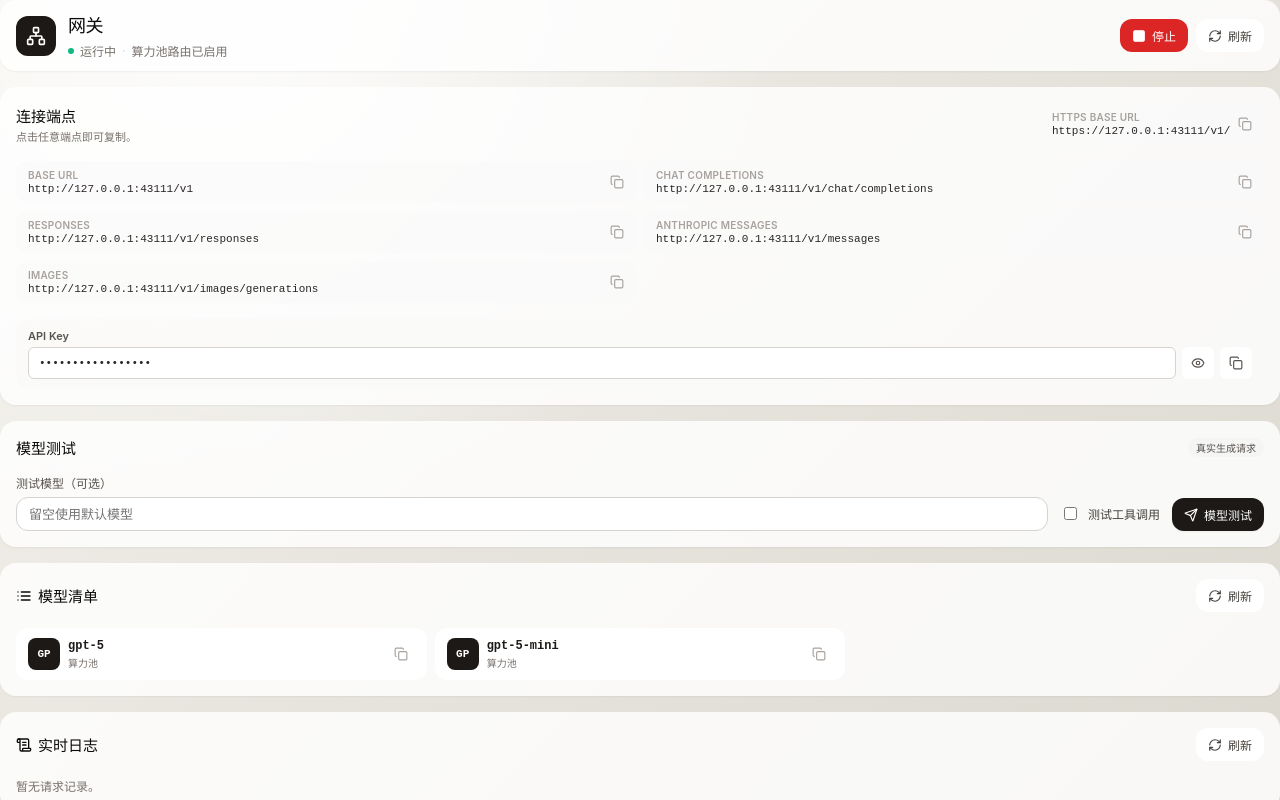
Test: GatewayScreen › starts and stops the gateway through the API
Later steps or results of the test are not shown.
What coordinates should you click on to do the following:
click the button with aria-label "停止 AI 服务"
I would click on:
 (1154, 36)
Its box is top-left (1120, 19), bottom-right (1188, 52).
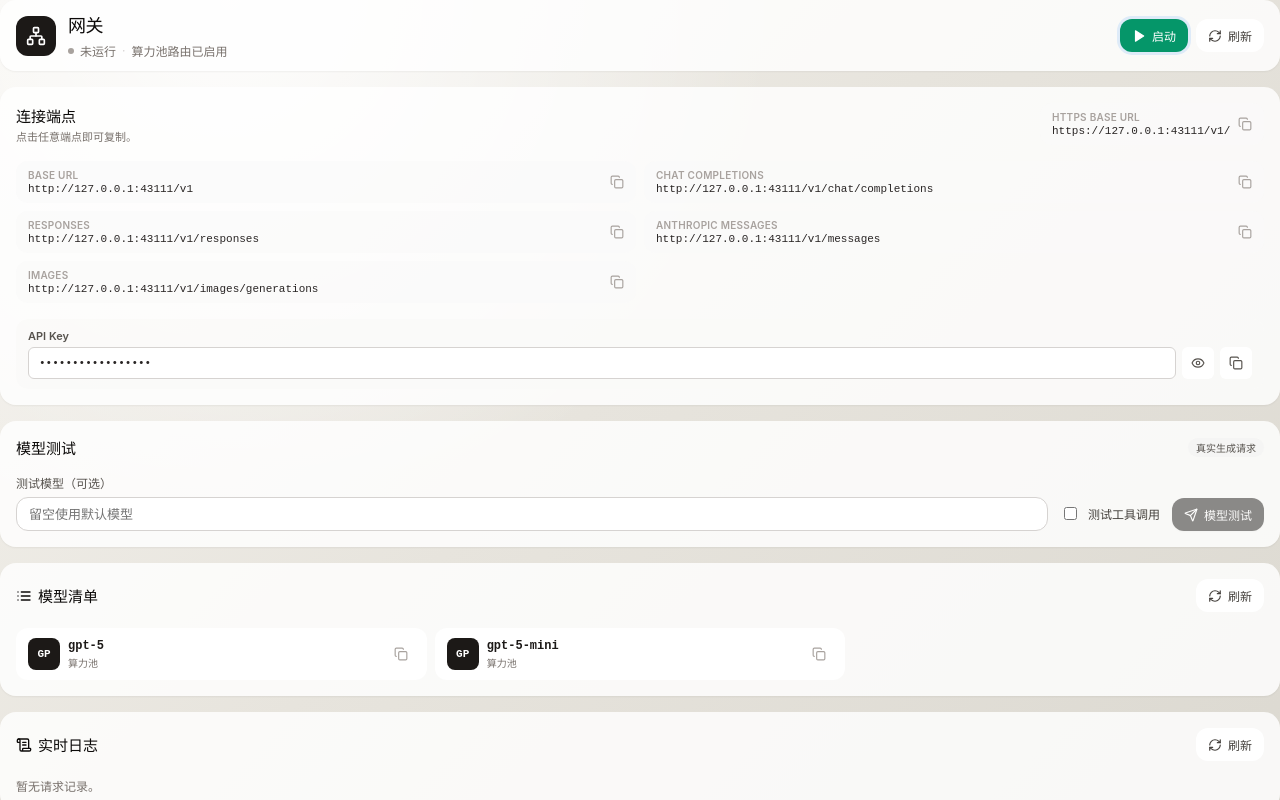
Result: the button with aria-label "启动 AI 服务" is shown at top-left (1120, 19), bottom-right (1188, 52)
